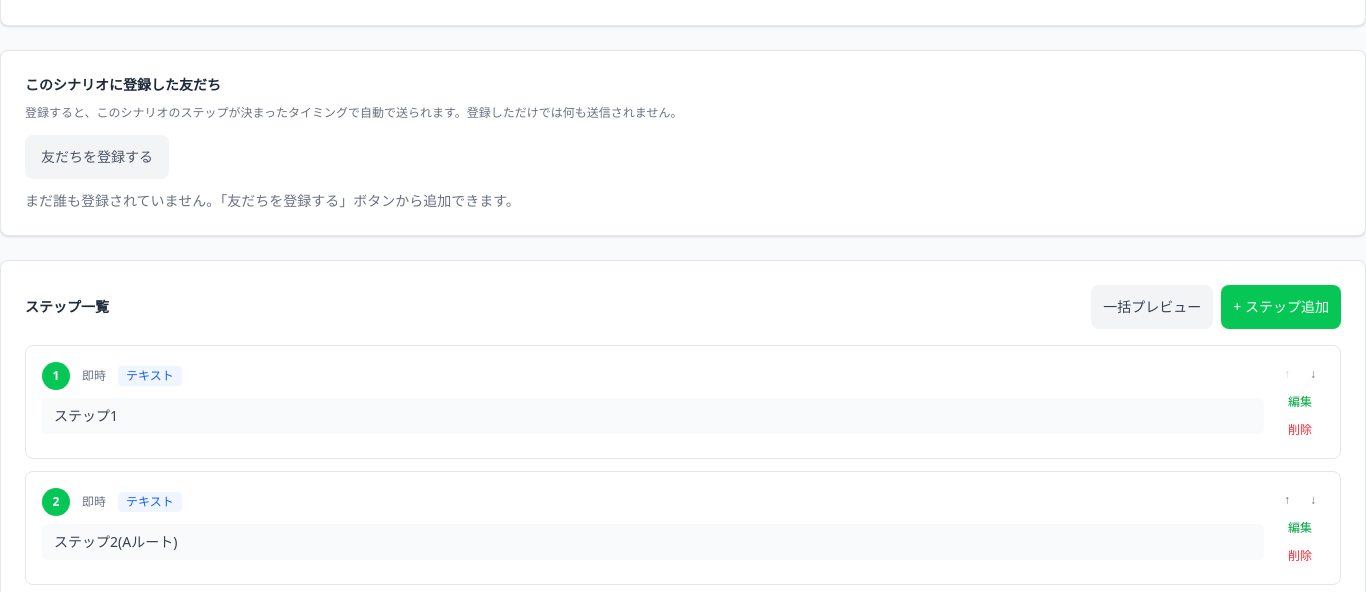
Test: T-A5 ステップ編集フォームの分岐欄 › 分岐欄（条件の種類）がステップフォームに描画される
Click the button "編集" in the row of "ステップ1": (1300, 402) [1276, 390, 1324, 414]
(page scrolled)
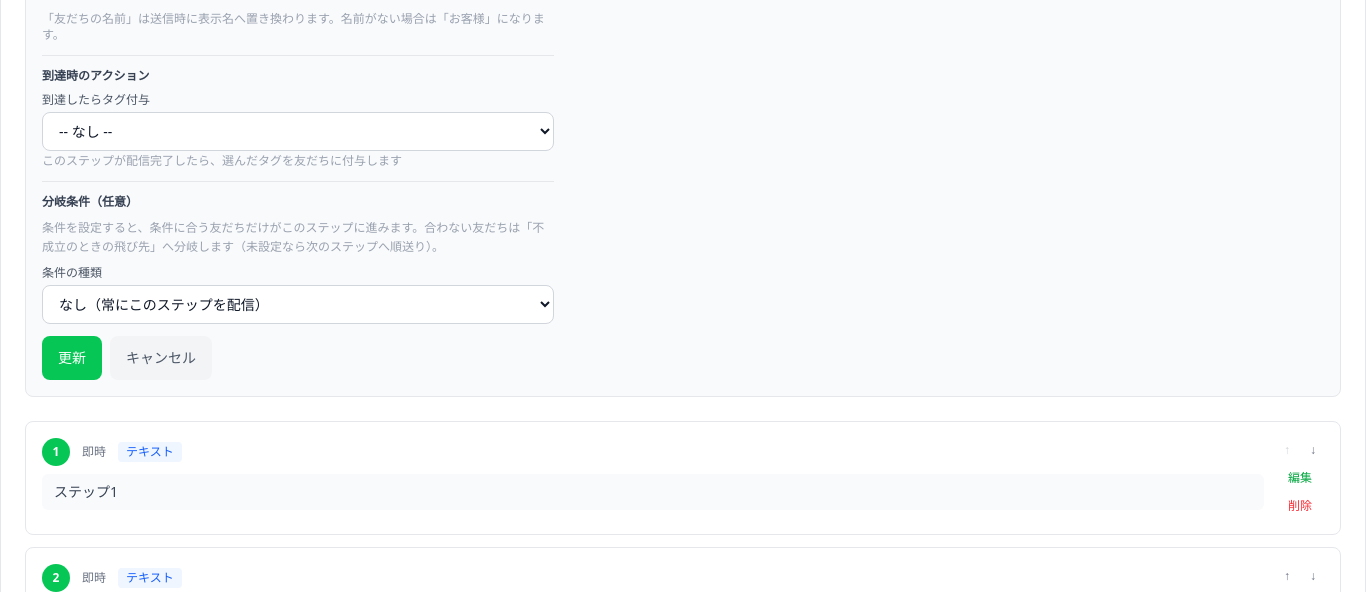
Now the dropdown named "分岐条件の種類" is shown, box [42, 284, 554, 324]
